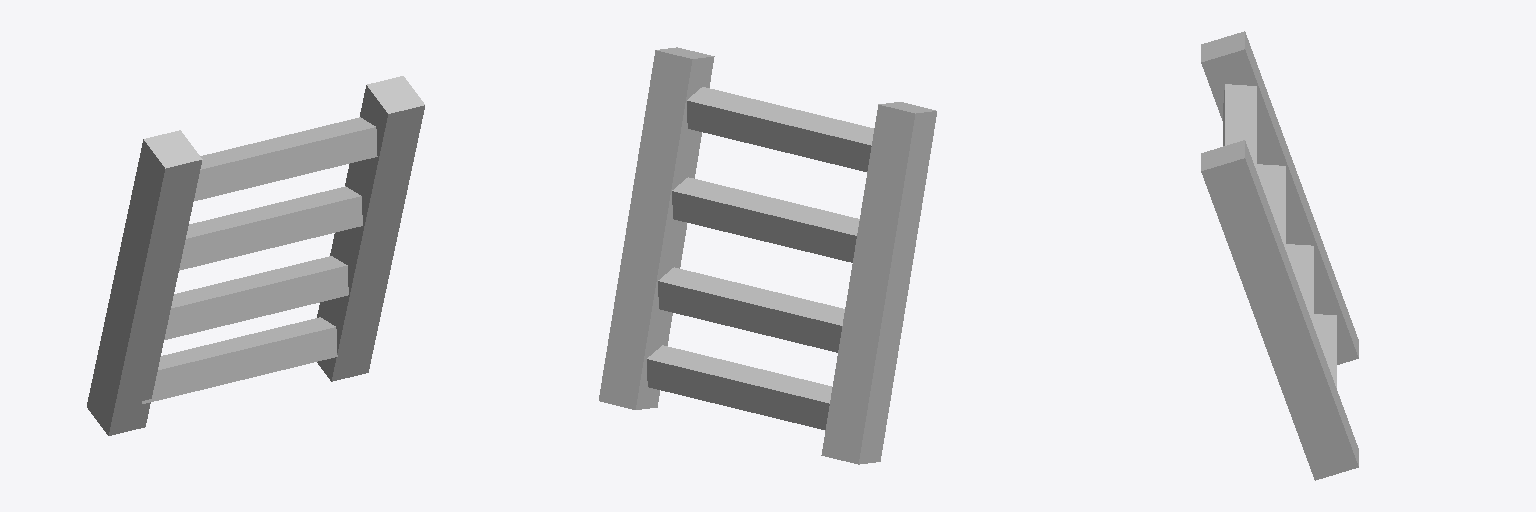
Rendered from fu_ti_block_bottom.obj.
The picture shows the model from 3 angles: view 1: azimuth 30°, elevation 25°; view 2: azimuth 150°, elevation 25°; view 3: azimuth 270°, elevation 25°; orthographic projection.
Parts seen in each view (by area): view 1: cube0, cube5, cube2, cube3, cube1, cube4; view 2: cube0, cube5, cube4, cube1, cube3, cube2; view 3: cube5, cube0, cube1, cube4, cube3, cube2.
Boxes of the visible parts, x1,y1,x2,y2 form: cube0: [87, 130, 202, 435]; cube5: [317, 76, 424, 381]; cube2: [142, 317, 337, 403]; cube3: [164, 256, 348, 339]; cube1: [194, 117, 377, 200]; cube4: [179, 186, 362, 270]; cube0: [821, 102, 936, 464]; cube5: [599, 47, 714, 409]; cube4: [672, 177, 859, 262]; cube1: [687, 87, 873, 171]; cube3: [658, 267, 844, 352]; cube2: [647, 345, 831, 429]; cube5: [1201, 140, 1358, 480]; cube0: [1201, 31, 1358, 364]; cube1: [1223, 84, 1256, 170]; cube4: [1257, 164, 1285, 249]; cube3: [1286, 244, 1313, 325]; cube2: [1314, 314, 1336, 387].
Size of the model in its own units: 0.875 by 1.04 by 0.4602.